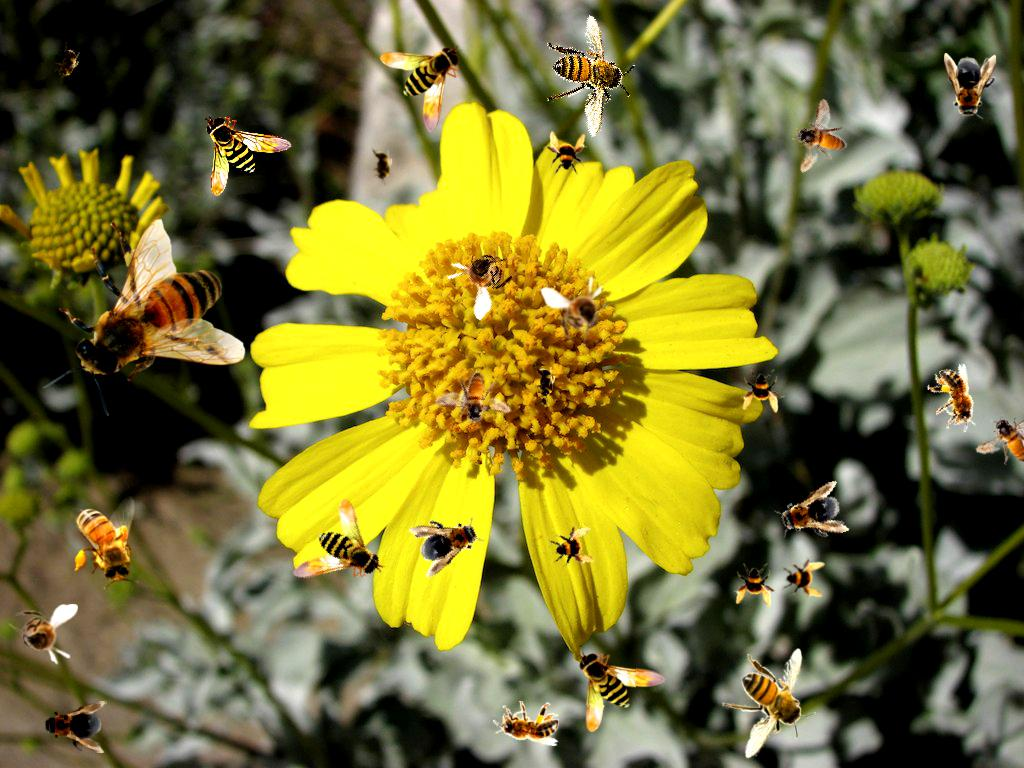Bee: (42, 219, 246, 418), (521, 7, 656, 149), (273, 494, 387, 604), (722, 648, 816, 759), (436, 228, 529, 322), (576, 647, 668, 733), (777, 97, 861, 184), (539, 266, 622, 354), (380, 45, 462, 133), (204, 114, 292, 196), (433, 360, 521, 439), (406, 503, 490, 579), (71, 496, 139, 589), (770, 480, 852, 550), (921, 361, 989, 440), (8, 604, 78, 665), (944, 53, 996, 121), (39, 701, 107, 753), (971, 410, 1024, 469), (493, 701, 559, 746), (545, 519, 599, 573), (781, 555, 825, 599), (543, 131, 587, 175), (741, 369, 785, 413), (734, 563, 778, 607), (48, 41, 86, 87), (371, 146, 393, 186), (534, 363, 556, 403)
